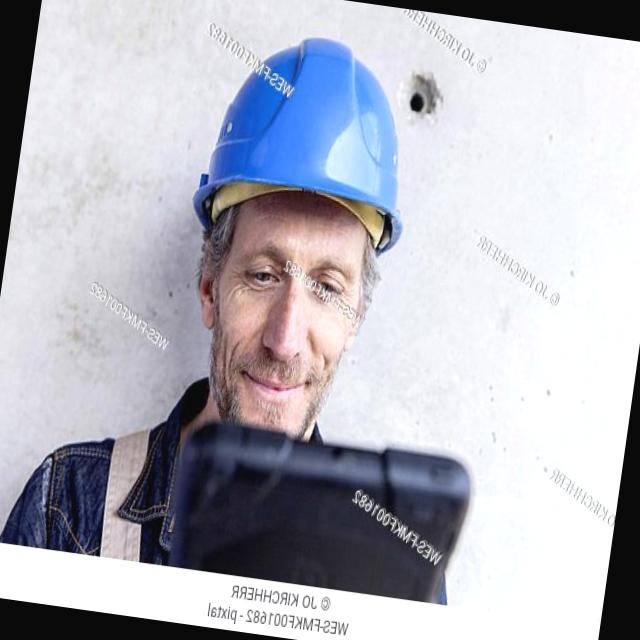helmet: (174, 21, 436, 274)
no-goggles: (184, 198, 394, 332)
no-vest: (1, 376, 328, 586)
